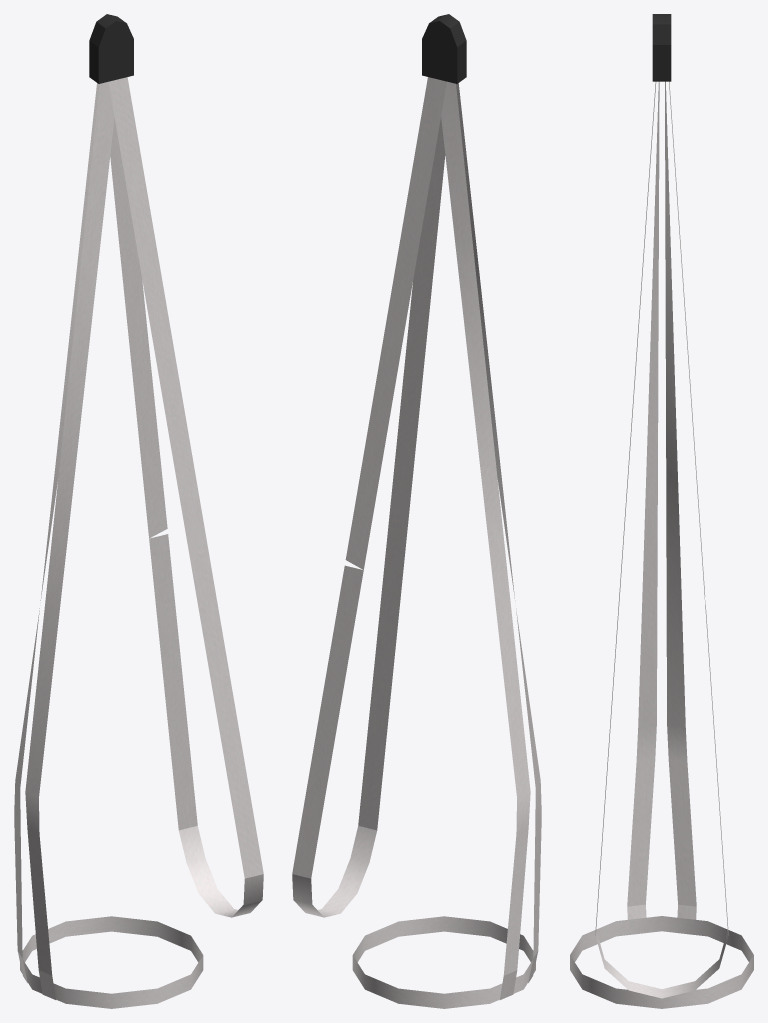
The model's file is band.fbx.
The picture shows the model from 3 angles, left to right: view 1: azimuth 30°, elevation 25°; view 2: azimuth 150°, elevation 25°; view 3: azimuth 270°, elevation 25°; orthographic projection.
Visible parts, largest first — view 1: band; view 2: band; view 3: band.
Part boxes in pixels (<box>): band: <box>14,14,263,1008</box>; band: <box>292,14,541,1008</box>; band: <box>570,14,753,1008</box>.
Bounding box in the file's own units: 1.39 × 5.97 × 1.04.
